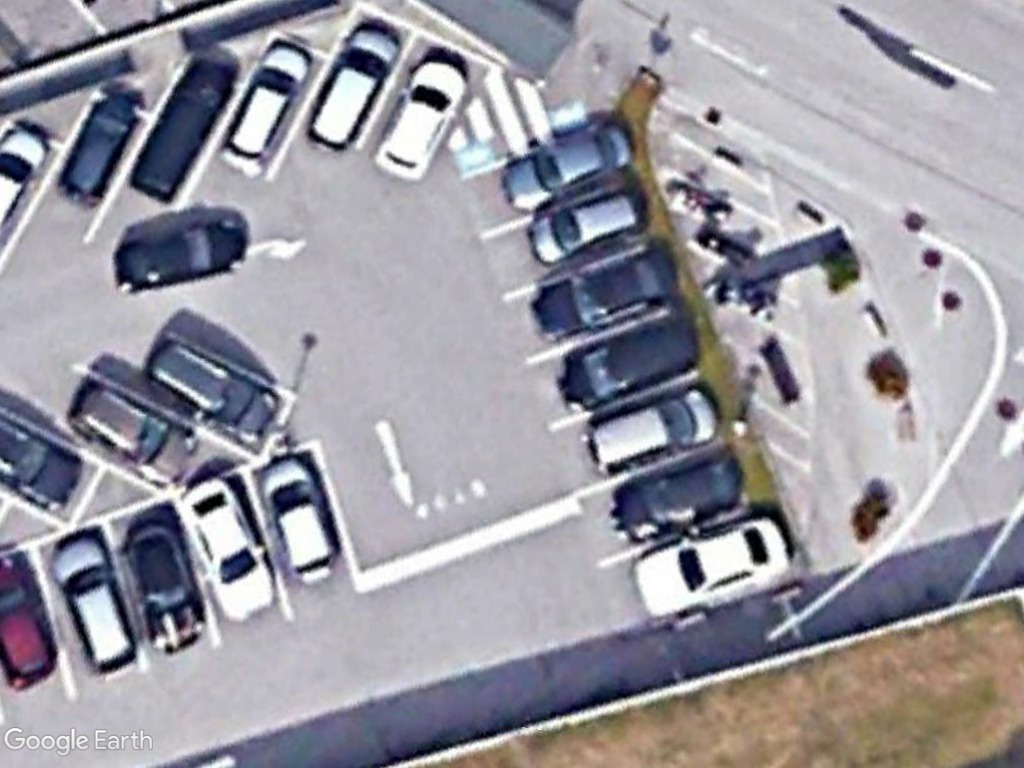car: (626, 512, 797, 623), (137, 335, 286, 448), (528, 237, 680, 347), (553, 309, 702, 419), (213, 30, 322, 179), (40, 530, 143, 681), (495, 118, 644, 220), (62, 382, 201, 489), (303, 17, 406, 160), (181, 473, 279, 620), (581, 384, 726, 483), (369, 49, 473, 185), (106, 210, 251, 305), (607, 449, 750, 544), (121, 511, 208, 655), (522, 179, 652, 275), (52, 78, 141, 210), (257, 454, 337, 586)
van: (130, 52, 238, 204)
